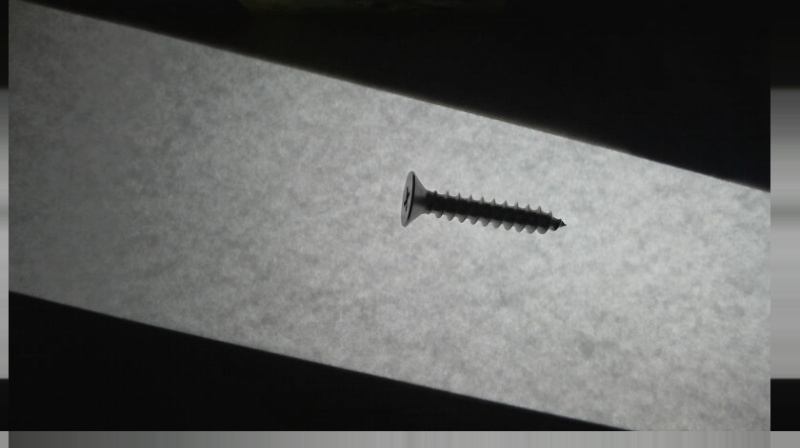S001: (395, 168, 569, 237)
